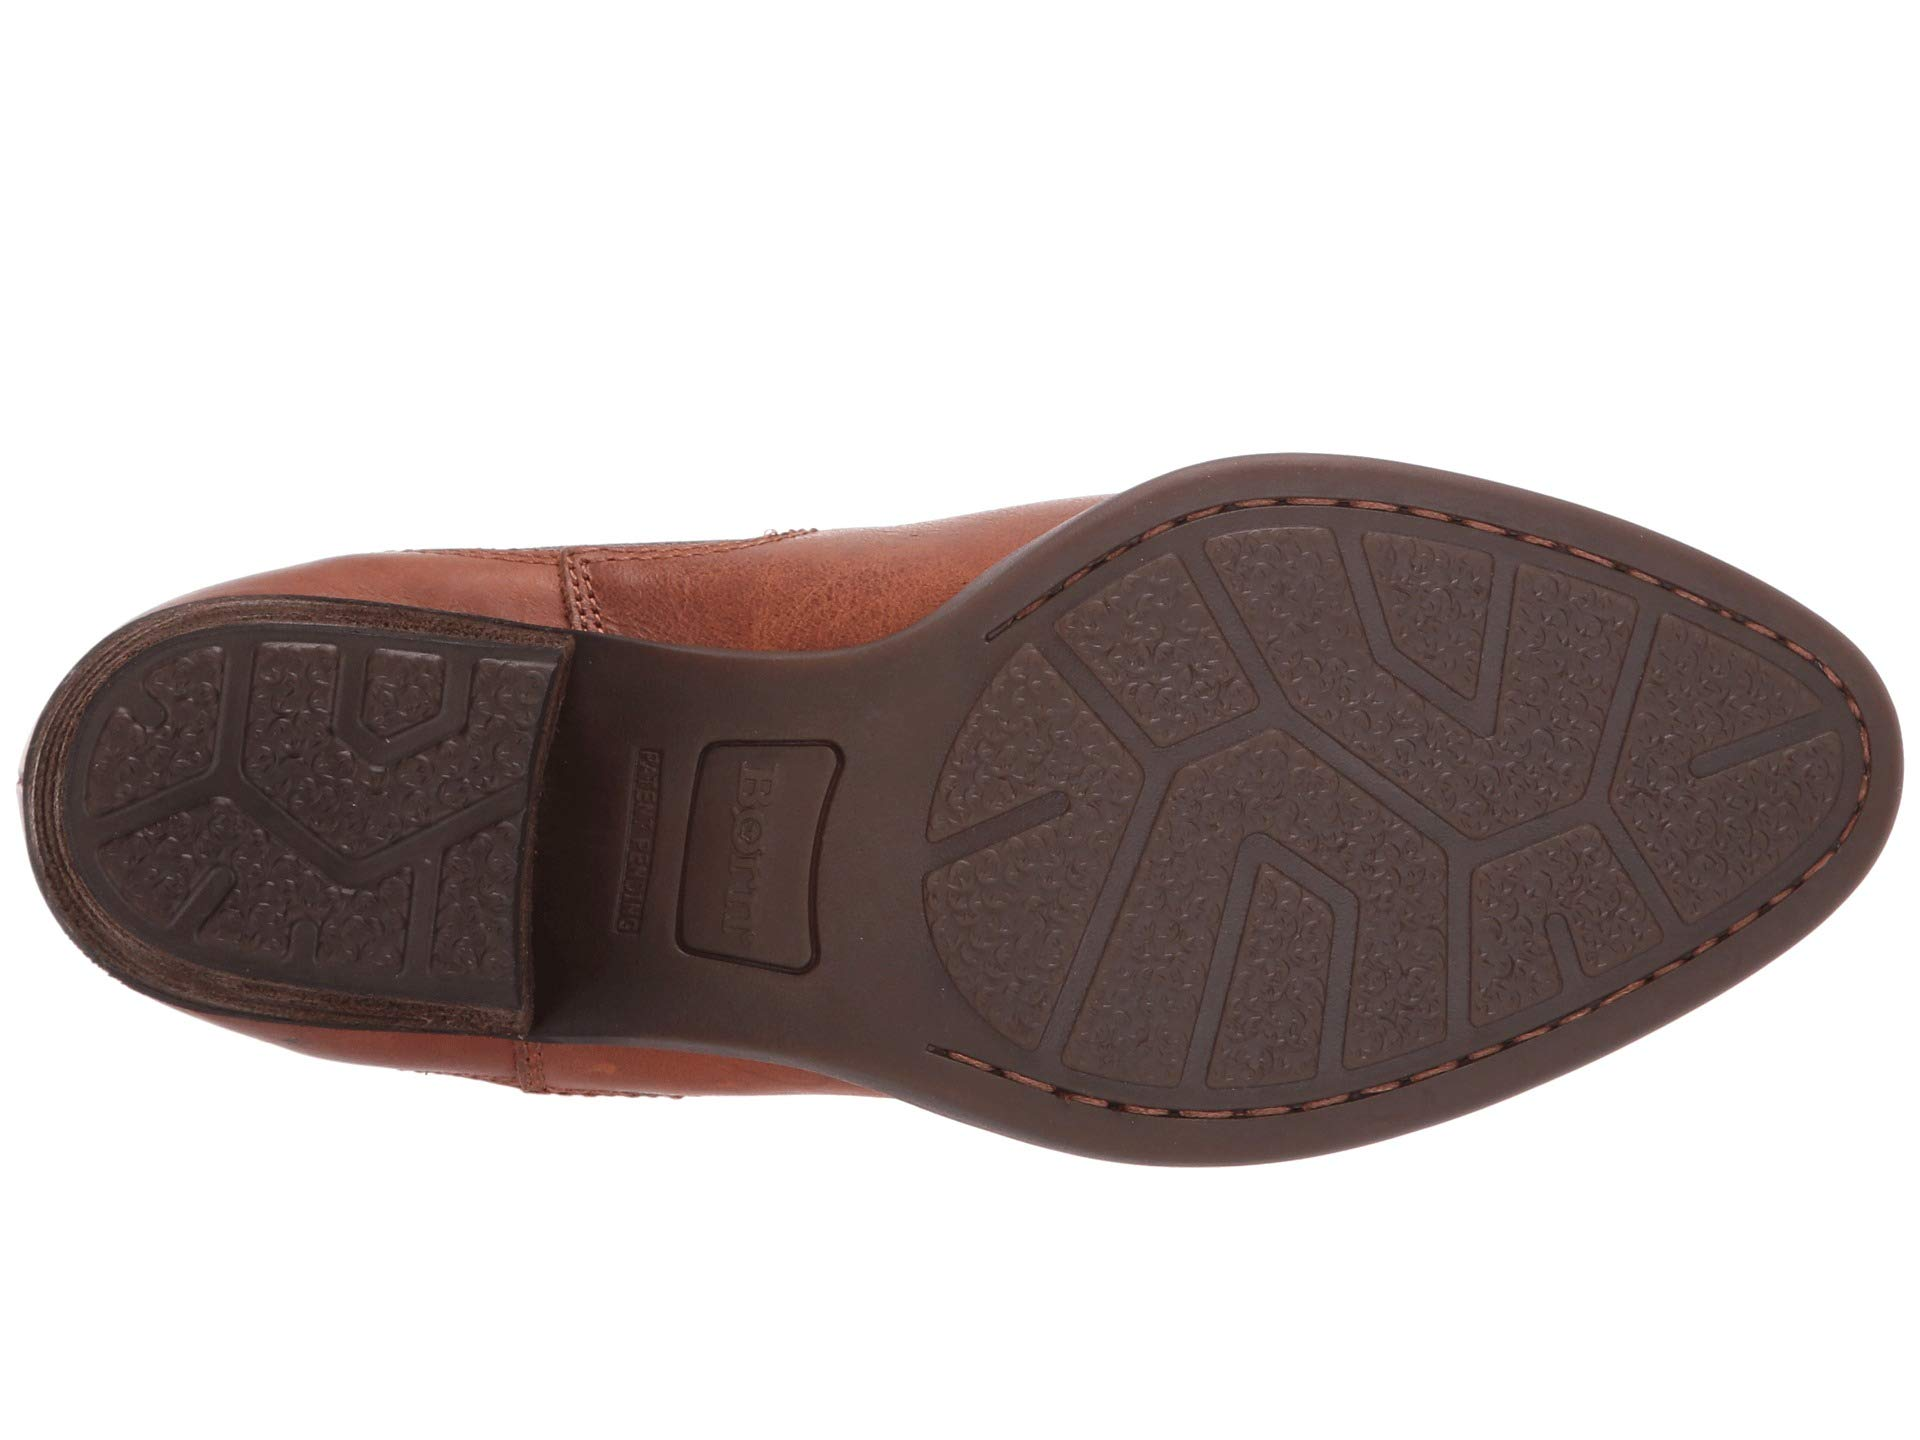quad: (1023, 523, 1287, 806)
